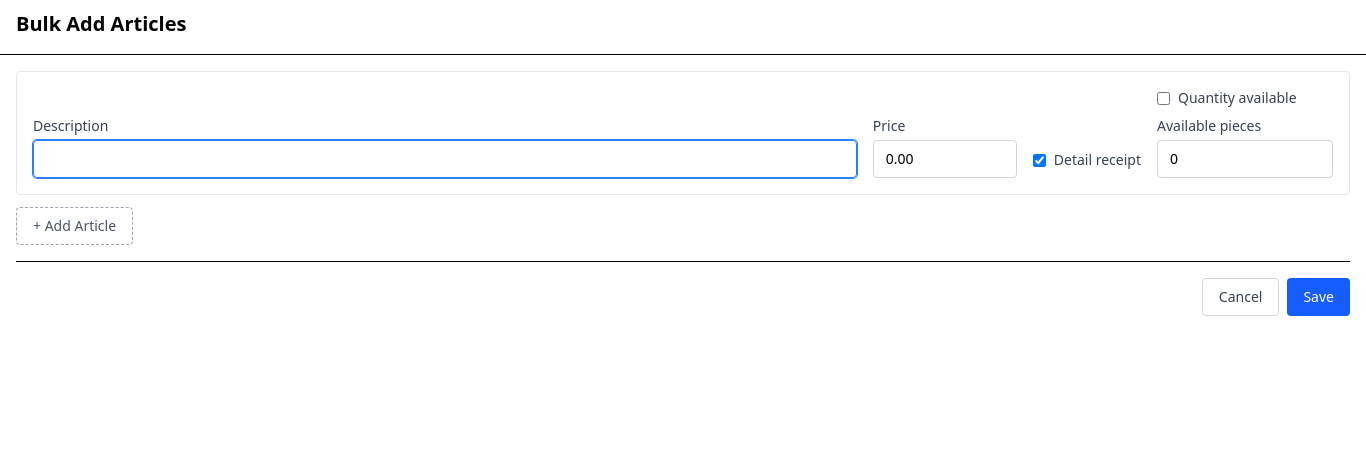
Test: ArticlesBulk › adds a row when + Add Article is clicked
Click the button "+ Add Article". click: (75, 226)
box: x1=16 y1=207 x2=133 y2=245
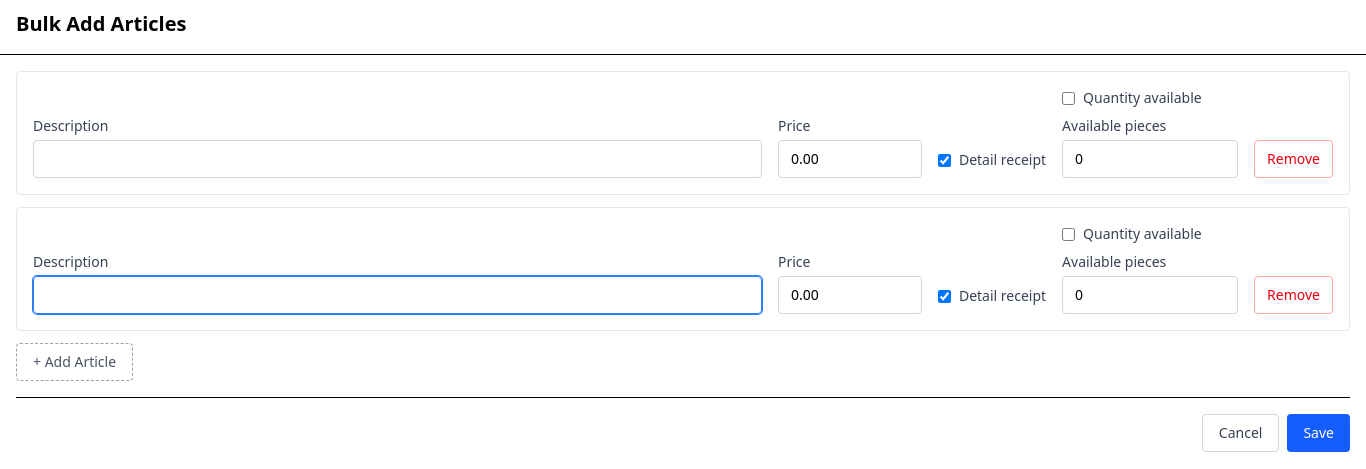
Now the number of fields labelled "Description" is 2, box x1=33 y1=140 x2=762 y2=178; x1=33 y1=276 x2=762 y2=314
